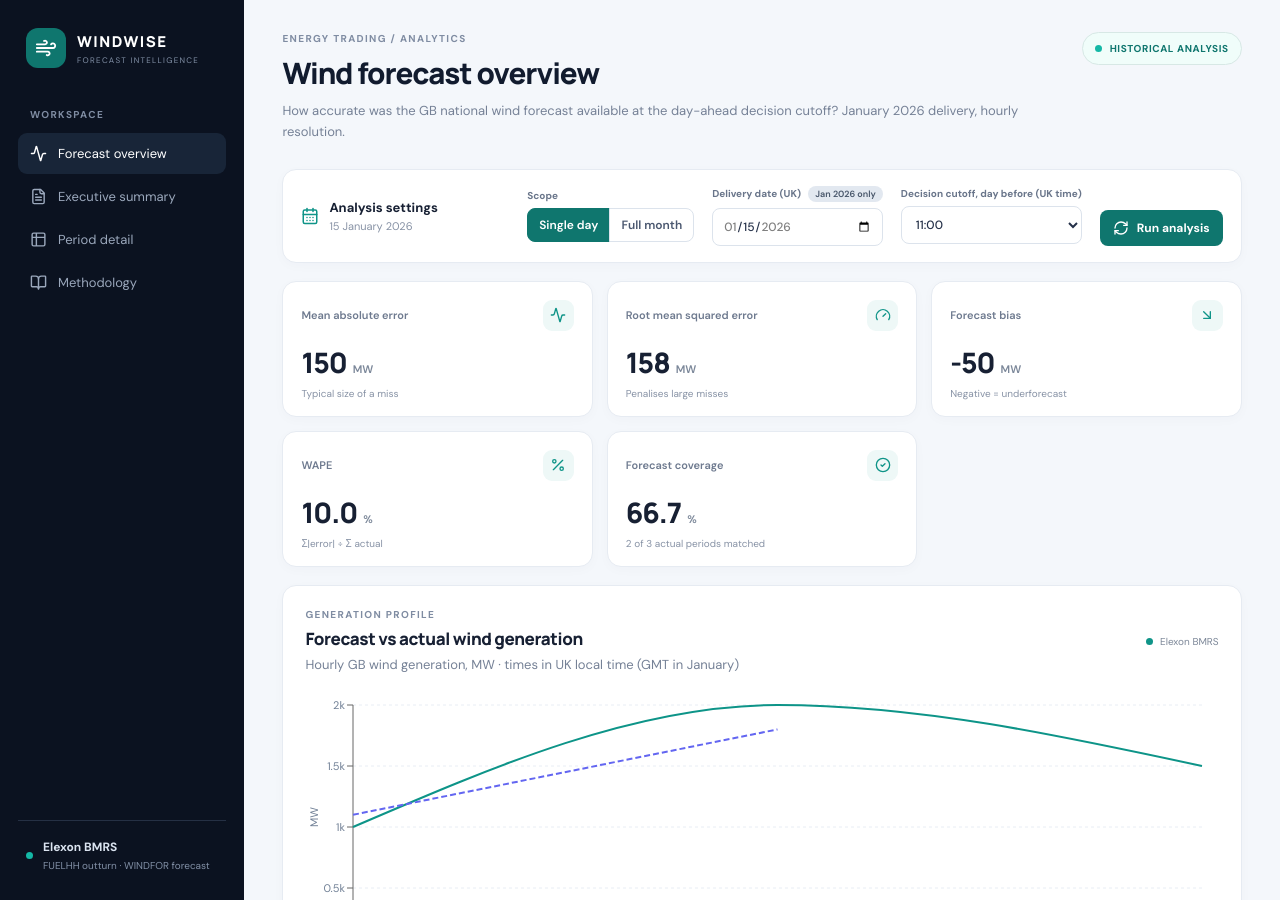
Test case: App › restricts the date picker to January 2026 and blocks invalid dates
The width and height of the screenshot is (1280, 900).
Expected: the text "Jan 2026 only" is shown, [808,186,883,202]
Type "2026-02-03" into the date field labelled "Delivery date (UK) Jan 2026 only" at {"x": 798, "y": 227}, box [712,208,883,246]
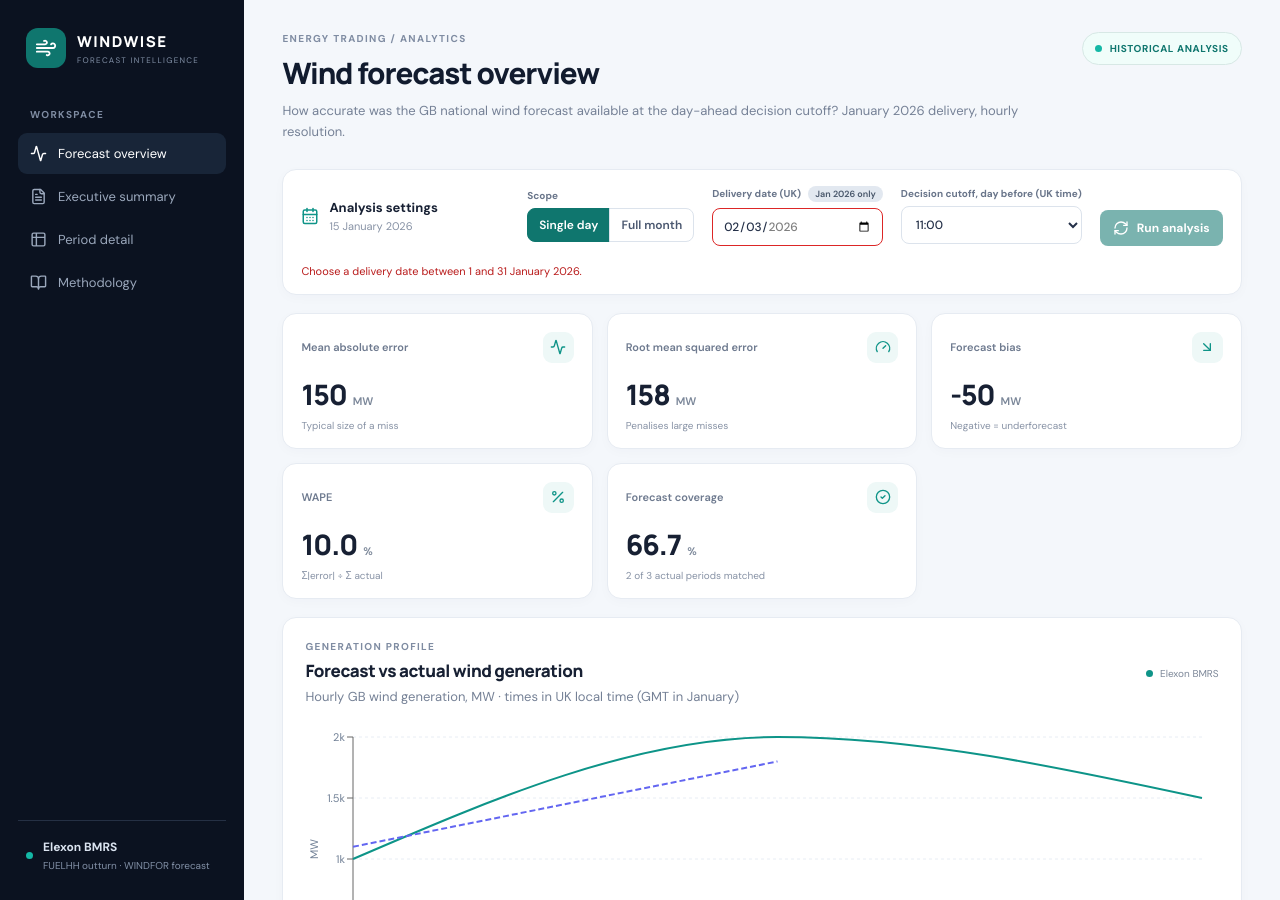
Result: the text "Choose a delivery date between 1 and 31 January 2026." is shown at [301,264,582,278]
Result: the button "Run analysis" is disabled at [1100,210,1223,246]
